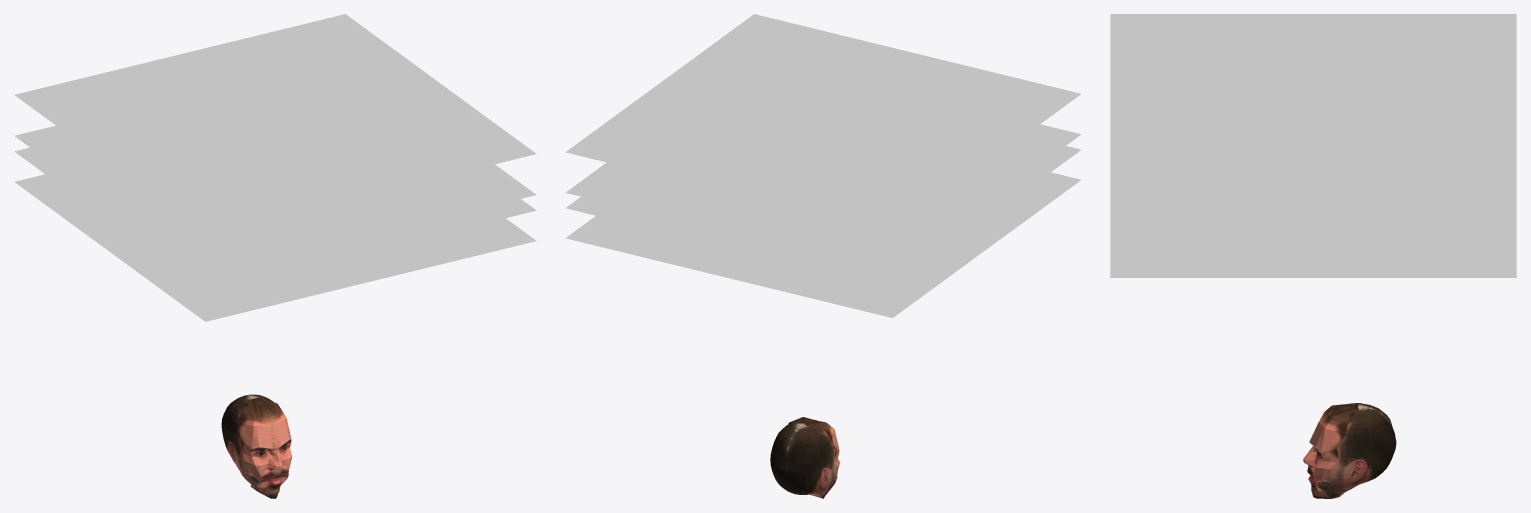
The model's file is andreas.glb.
3 views of the same model, side by side, from view 1: azimuth 30°, elevation 25°; view 2: azimuth 150°, elevation 25°; view 3: azimuth 270°, elevation 25° (orthographic). The views are drawn at different scales.
Parts seen in each view (by area): view 1: Plane, Plane.002, Plane.003, Plane.001, FACE, head; view 2: Plane, Plane.002, Plane.003, Plane.001, head, FACE; view 3: Plane, Plane.002, Plane.003, Plane.001, head, FACE.
Part boxes in pixels (x1,y1,x2,y2): Plane: [14, 14, 536, 234]; Plane.002: [14, 125, 536, 275]; Plane.003: [14, 174, 536, 321]; Plane.001: [14, 147, 536, 291]; FACE: [237, 396, 292, 498]; head: [221, 394, 273, 490]; Plane: [565, 14, 1080, 232]; Plane.002: [565, 124, 1081, 272]; Plane.003: [565, 172, 1081, 317]; Plane.001: [565, 146, 1081, 287]; head: [770, 422, 837, 498]; FACE: [788, 417, 839, 498]; Plane: [1110, 14, 1516, 185]; Plane.002: [1110, 185, 1516, 228]; Plane.003: [1110, 245, 1516, 277]; Plane.001: [1110, 229, 1516, 245]; head: [1316, 403, 1396, 497]; FACE: [1303, 403, 1361, 498].
Size of the model in its own units: 2 by 2.16 by 2.
2 materials, 2 textured.
